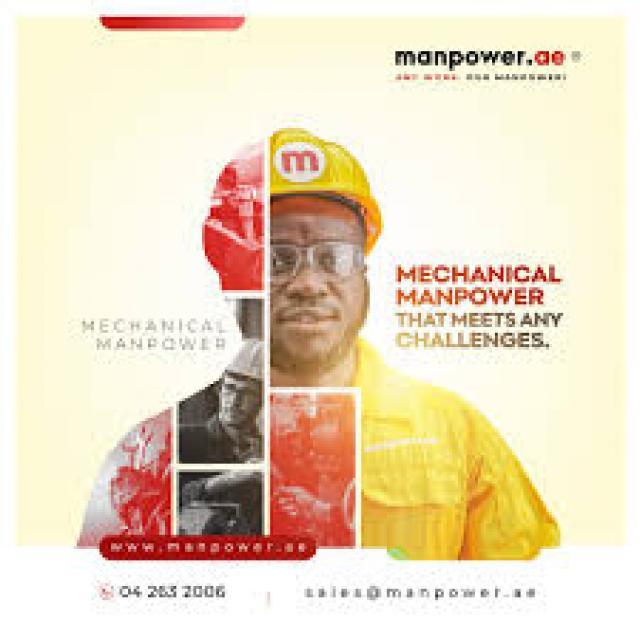safety_helmet: (190, 116, 392, 247)
